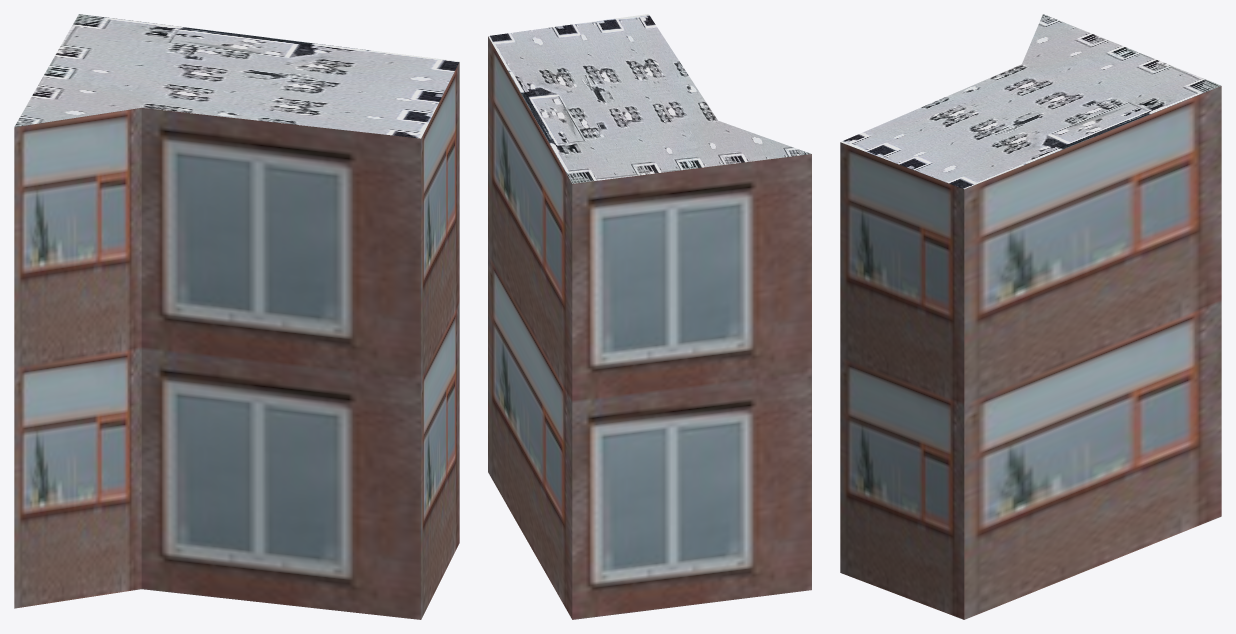
Rendered from ResTex__4171.fbx.
3 renders of one model, left to right at view 1: azimuth 30°, elevation 25°; view 2: azimuth 150°, elevation 25°; view 3: azimuth 270°, elevation 25°, orthographic. The views are drawn at different scales.
Parts seen in each view (by area): view 1: CityEngineMaterial_19_m, CityEngineMaterial_15_m; view 2: CityEngineMaterial_19_m, CityEngineMaterial_15_m; view 3: CityEngineMaterial_19_m, CityEngineMaterial_15_m.
Boxes of the visible parts, box(x1,y1,x2,y2) form: CityEngineMaterial_19_m: box(14, 62, 459, 619); CityEngineMaterial_15_m: box(14, 14, 459, 138); CityEngineMaterial_19_m: box(488, 36, 811, 619); CityEngineMaterial_15_m: box(488, 14, 810, 183); CityEngineMaterial_19_m: box(840, 86, 1221, 619); CityEngineMaterial_15_m: box(840, 14, 1221, 189).
Bounding box in the file's own units: 5.24 × 6 × 4.82.
Materials: 2 (2 with a texture image).
